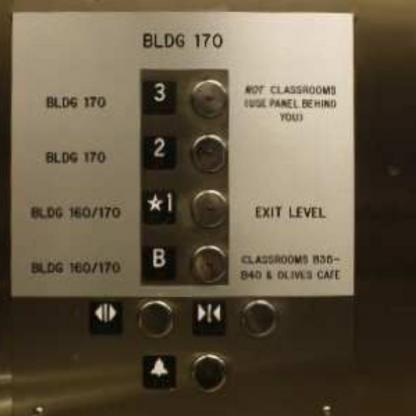2: (140, 133, 178, 171)
3: (140, 78, 178, 117)
B: (138, 243, 178, 281)
alarm: (138, 352, 182, 392)
close: (190, 296, 228, 336)
indicator: (186, 352, 229, 396), (238, 296, 280, 340), (188, 243, 230, 285), (189, 188, 229, 229), (136, 298, 176, 339), (190, 76, 229, 118), (190, 133, 226, 173)
open: (86, 297, 125, 336)
s1: (140, 187, 178, 227)
